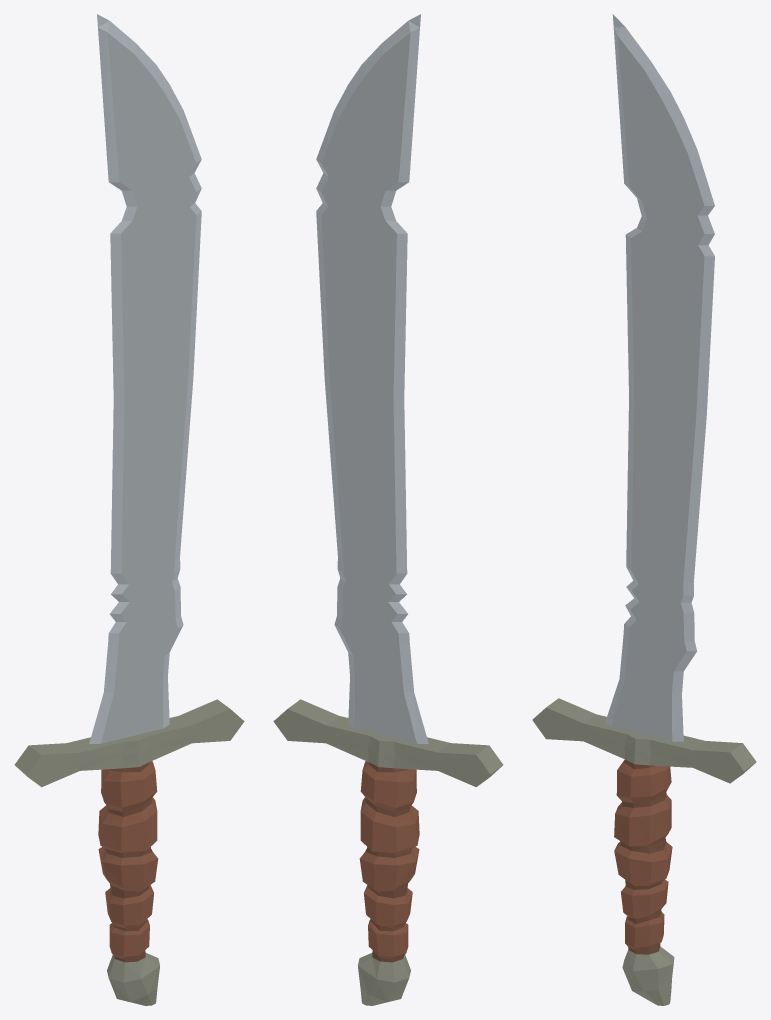
The model's file is Sword_2.glb.
The picture shows the model from 3 angles, left to right: view 1: azimuth 30°, elevation 25°; view 2: azimuth 150°, elevation 25°; view 3: azimuth 330°, elevation 25°; orthographic projection. The views are drawn at different scales.
Visible parts, largest first — view 1: Sword_2; view 2: Sword_2; view 3: Sword_2.
Part boxes in pixels (x1,y1,x2,y2): Sword_2: (14,14,244,1005); Sword_2: (273,14,503,1005); Sword_2: (532,14,756,1005).
Size of the model in its own units: 1.22 by 5.36 by 0.3102.
Materials: 1 (1 with a texture image).
